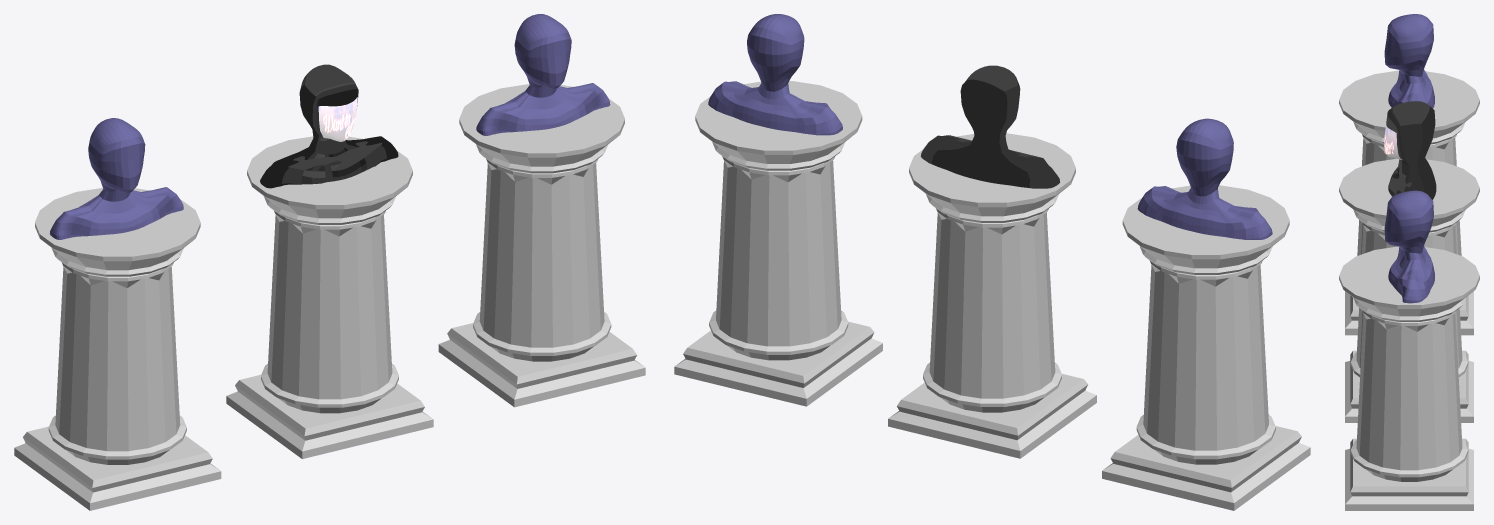
File: podium.gltf
3 renders of one model, left to right at view 1: azimuth 30°, elevation 25°; view 2: azimuth 150°, elevation 25°; view 3: azimuth 270°, elevation 25°, orthographic. The views are drawn at different scales.
Parts seen in each view (by area): view 1: podium, Cube, model, model.002; view 2: podium, Cube, model.002, model; view 3: podium, model.002, Cube, model.
Boxes of the visible parts, x1,y1,x2,y2 form: podium: (14, 84, 645, 510); Cube: (260, 64, 398, 188); model: (49, 118, 183, 239); model.002: (476, 14, 610, 135); podium: (674, 81, 1310, 510); Cube: (920, 65, 1059, 188); model.002: (708, 14, 842, 135); model: (1137, 118, 1272, 239); podium: (1339, 70, 1479, 510); model.002: (1384, 190, 1434, 303); Cube: (1384, 101, 1436, 199); model: (1384, 14, 1434, 108).
Bounding box in the file's own units: 12.19 × 7.12 × 3.1.
